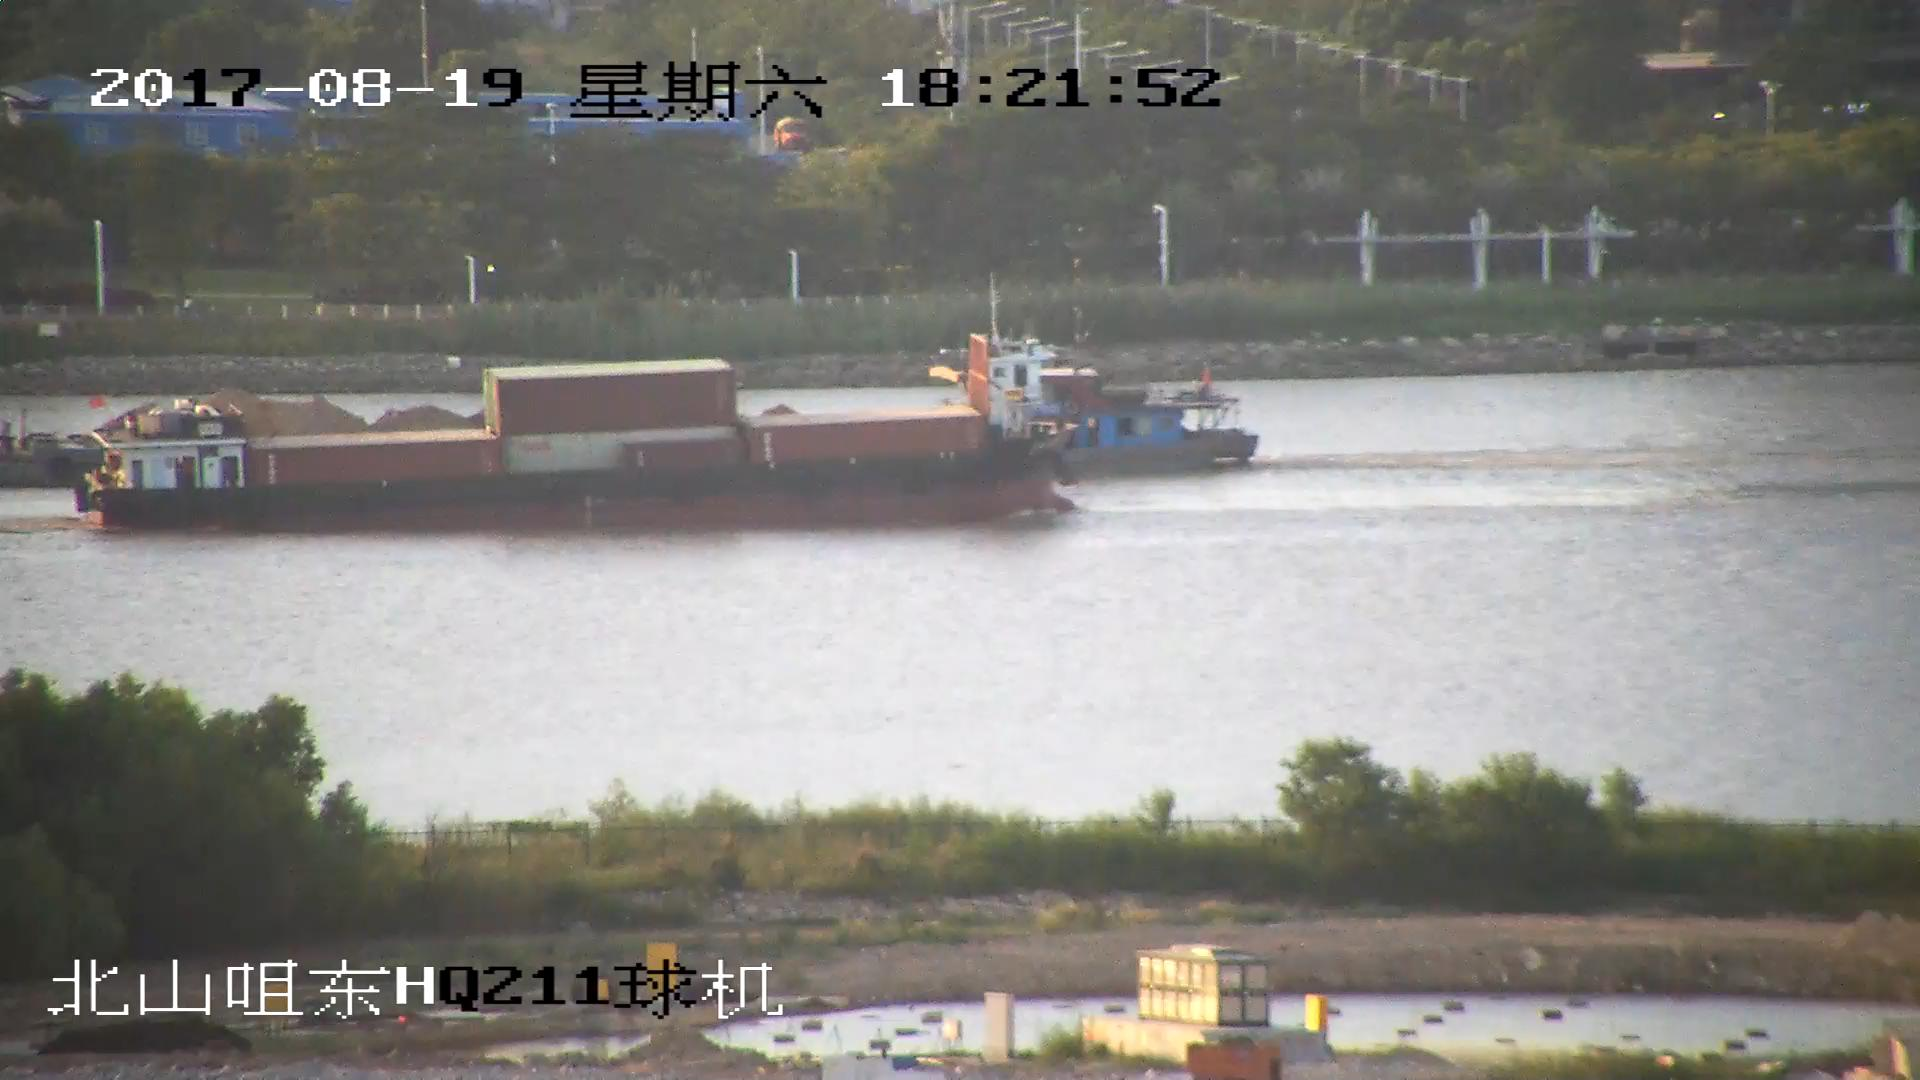container ship: (74, 333, 1076, 535)
